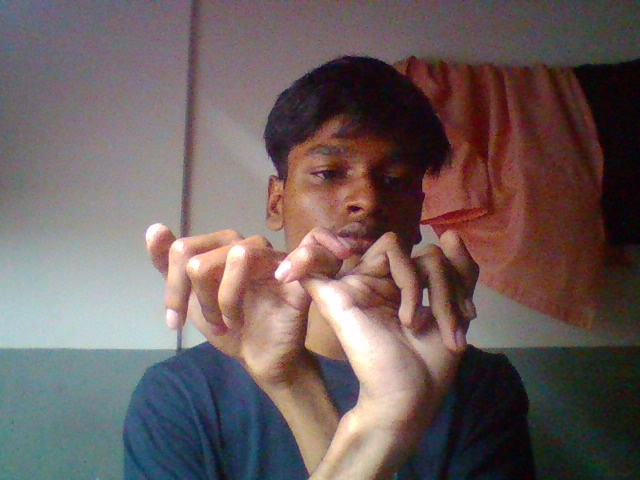S: (119, 205, 602, 433)
